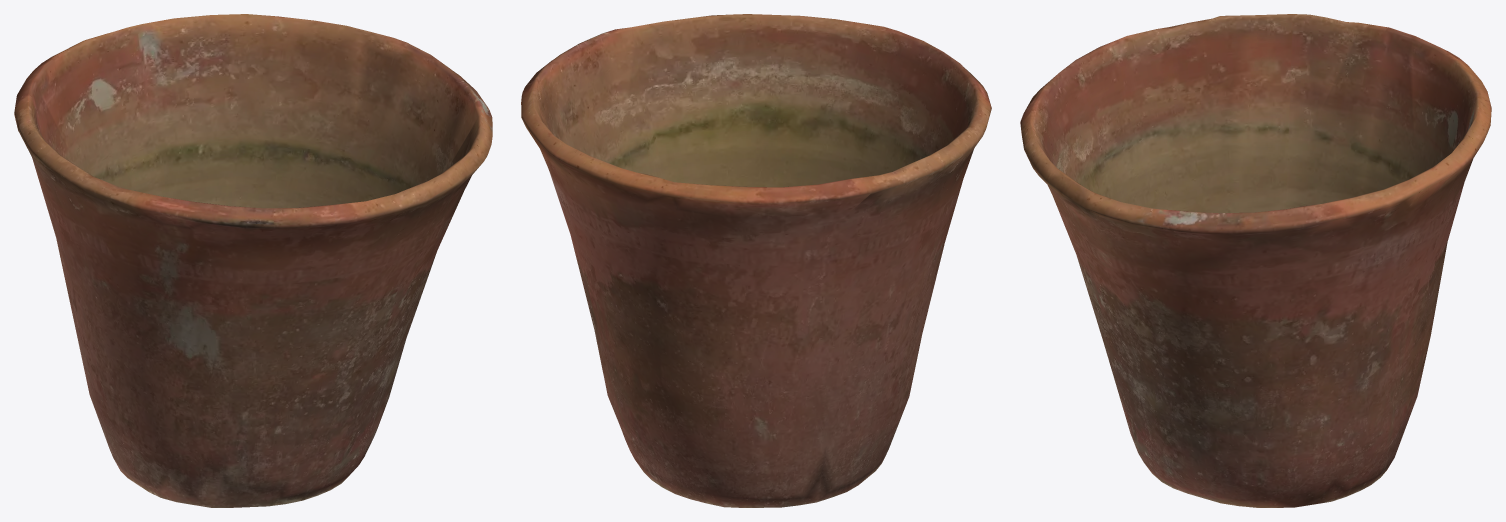
Rendered from ph-planter_pot_clay.glb.
3 renders of one model, left to right at view 1: azimuth 30°, elevation 25°; view 2: azimuth 150°, elevation 25°; view 3: azimuth 270°, elevation 25°, orthographic.
Visible parts, largest first — view 1: planter_pot_clay; view 2: planter_pot_clay; view 3: planter_pot_clay.
Part boxes in pixels (box(x1,y1,x2,y2)): planter_pot_clay: box(14, 14, 492, 507); planter_pot_clay: box(521, 14, 991, 507); planter_pot_clay: box(1020, 14, 1491, 507).
Bounding box in the file's own units: 0.266 × 0.2218 × 0.2635.
Materials: 1 (1 with a texture image).
